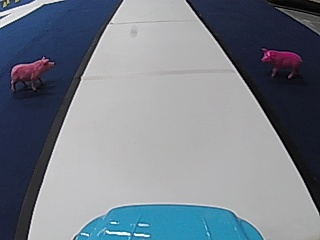pig: (7, 54, 54, 91), (258, 44, 302, 78)
